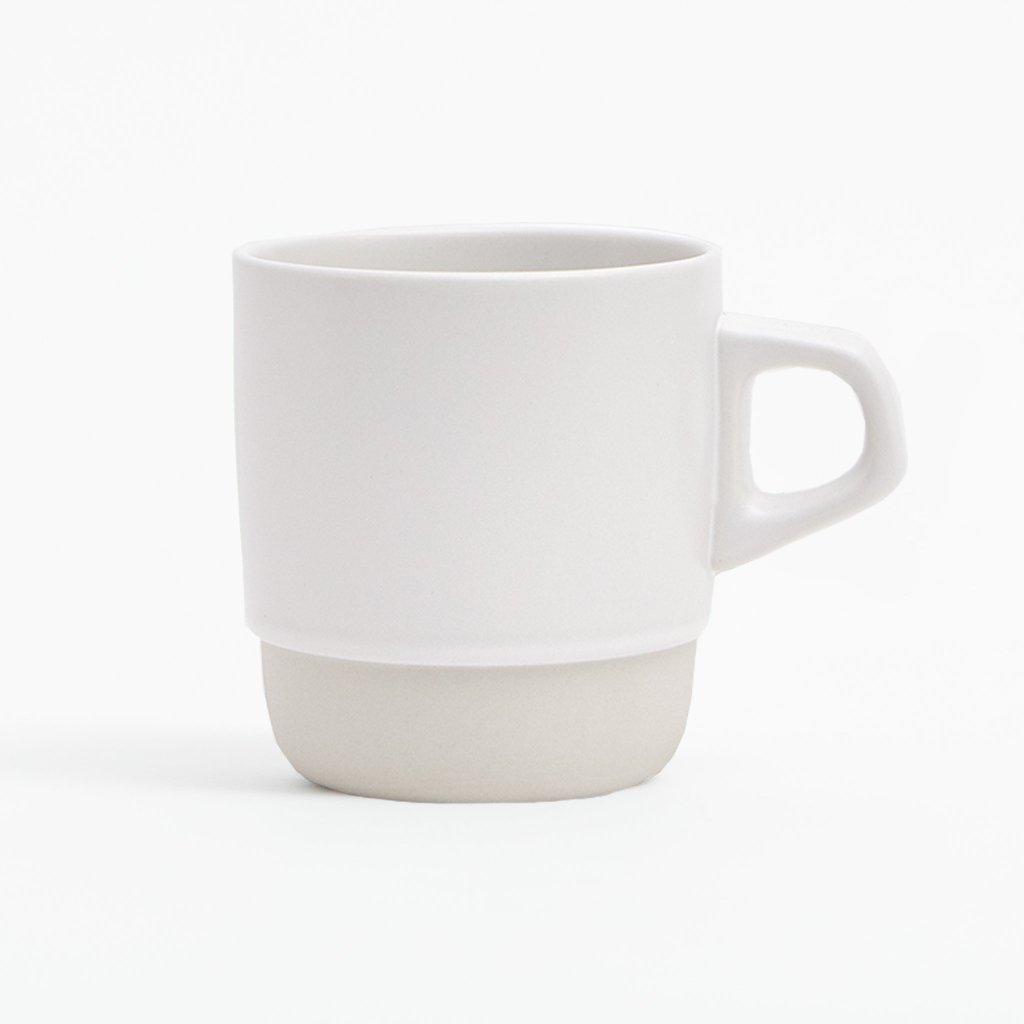gelas: (185, 209, 962, 876)
